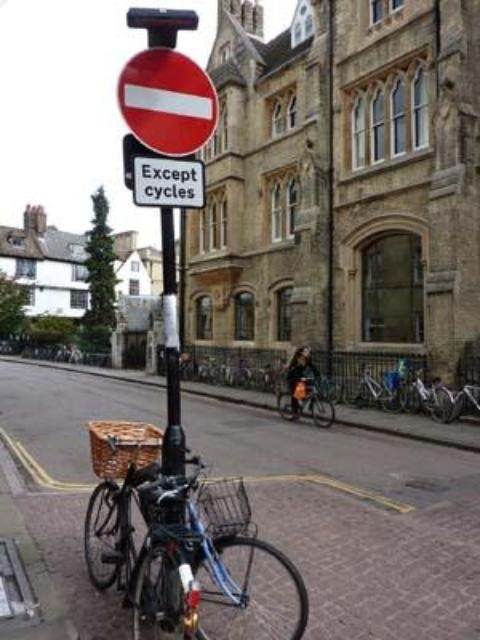B2: (114, 44, 220, 156)
